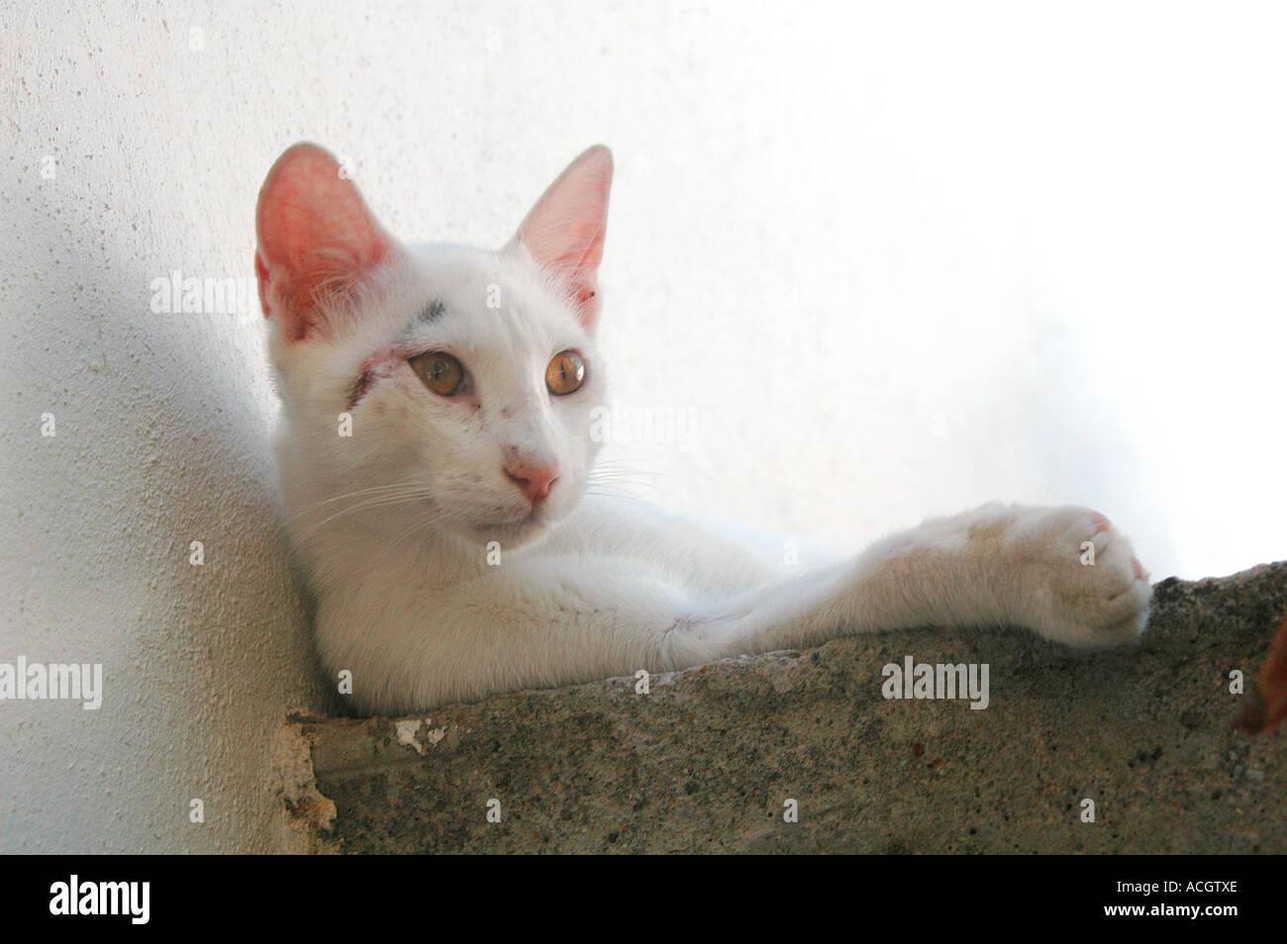cut: (284, 328, 439, 463)
